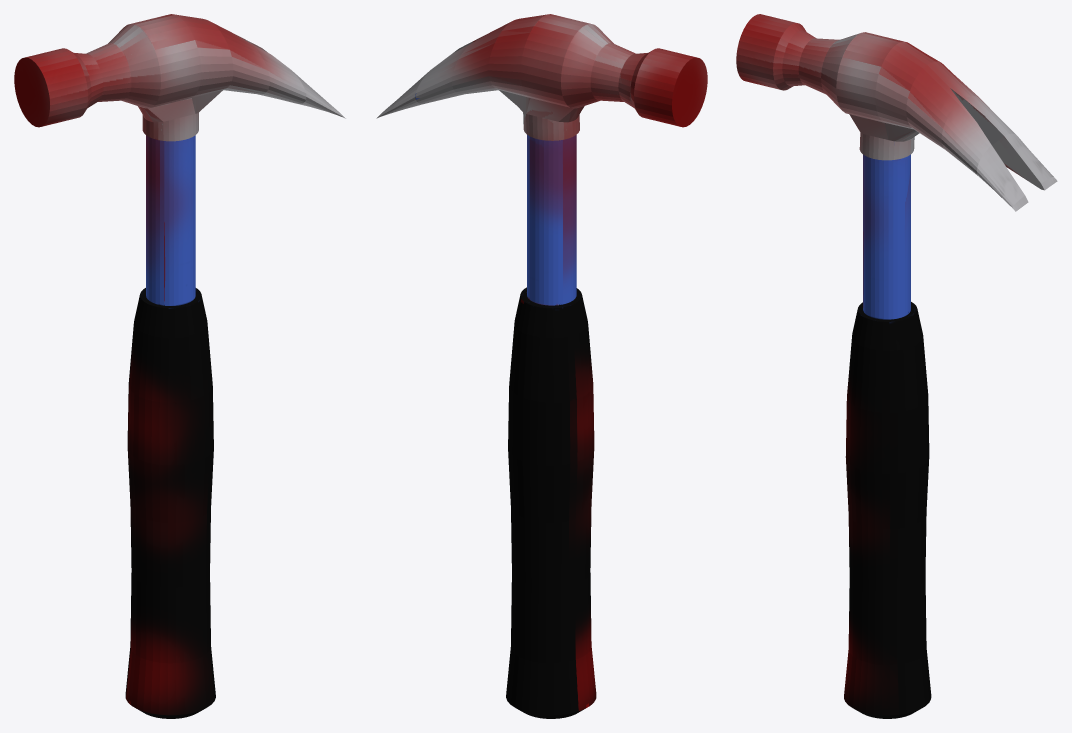
File: Hammer (1).fbx
The picture shows the model from 3 angles, left to right: view 1: azimuth 30°, elevation 25°; view 2: azimuth 150°, elevation 25°; view 3: azimuth 330°, elevation 25°; orthographic projection. The views are drawn at different scales.
Visible parts, largest first — view 1: Cylinder.001; view 2: Cylinder.001; view 3: Cylinder.001.
Boxes of the visible parts, x1=… form: Cylinder.001: x1=14, y1=14, x2=345, y2=718; Cylinder.001: x1=376, y1=14, x2=707, y2=718; Cylinder.001: x1=736, y1=14, x2=1057, y2=718.
Size of the model in its own units: 1012 by 2265 by 271.
Materials: 1 (1 with a texture image).
